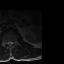CCS_normal: (9, 40, 11, 48)
LFS_normal: (13, 40, 15, 45)
LLS_normal: (11, 40, 13, 46)
RFS_normal: (5, 40, 7, 45)
RLS_normal: (7, 40, 9, 46)
